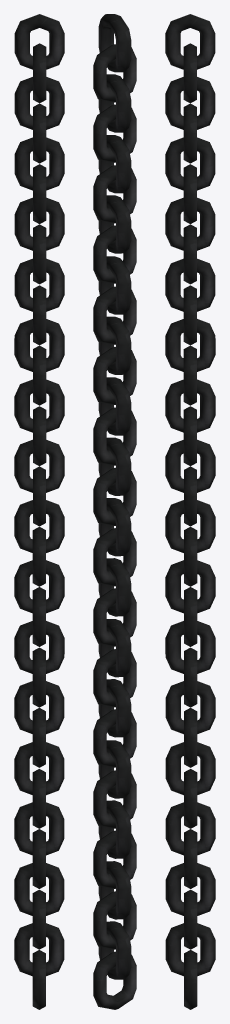
File: Chain.glb
3 renders of one model, left to right at view 1: azimuth 90°, elevation 25°; view 2: azimuth 210°, elevation 25°; view 3: azimuth 270°, elevation 25°, orthographic.
Visible parts, largest first — view 1: Object_8; view 2: Object_8; view 3: Object_8.
Boxes of the visible parts, x1=… form: Object_8: x1=14, y1=14, x2=64, y2=1009; Object_8: x1=93, y1=14, x2=136, y2=1009; Object_8: x1=165, y1=14, x2=215, y2=1009.
Bounding box in the file's own units: 0.1934 × 4.24 × 0.1947.
1 material, 1 textured.
